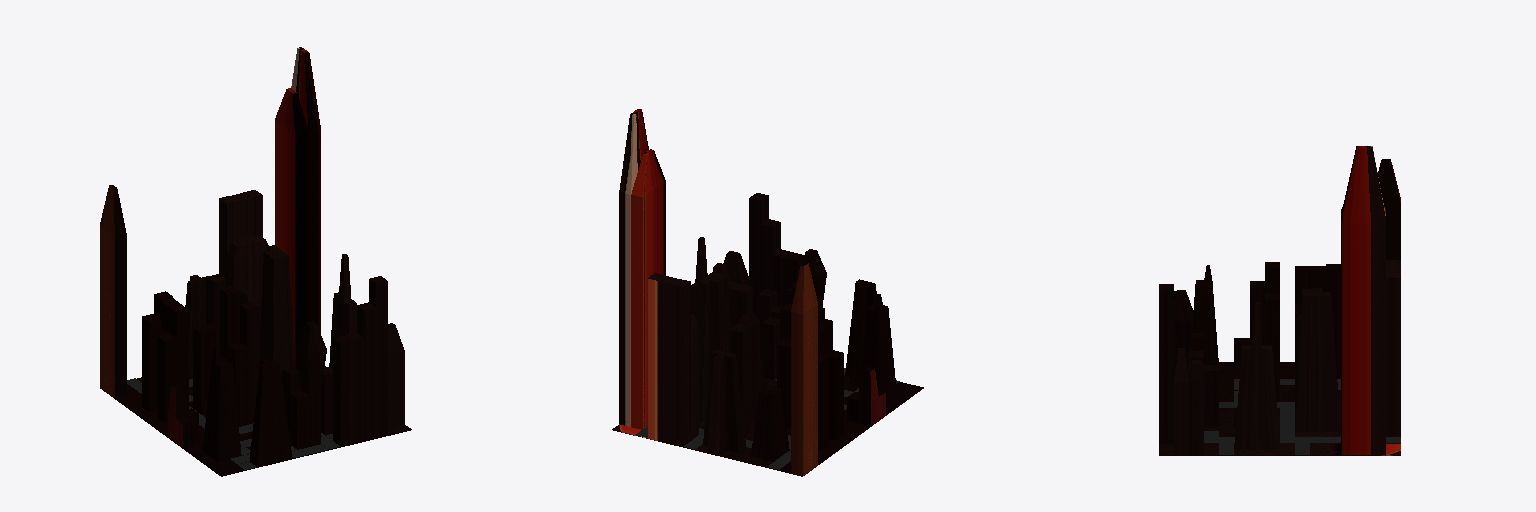
3 renders of one model, left to right at view 1: azimuth 30°, elevation 25°; view 2: azimuth 150°, elevation 25°; view 3: azimuth 270°, elevation 25°, orthographic.
Parts seen in each view (by area): view 1: Cube, Cube.001; view 2: Cube, Cube.001; view 3: Cube, Cube.001.
Boxes of the visible parts, x1,y1,x2,y2 form: Cube: [100, 47, 411, 476]; Cube.001: [127, 378, 340, 469]; Cube: [612, 109, 923, 476]; Cube.001: [636, 368, 899, 469]; Cube: [1159, 146, 1400, 455]; Cube.001: [1204, 379, 1400, 454].
Size of the model in its own units: 275 by 420 by 302.
2 materials, 1 textured.